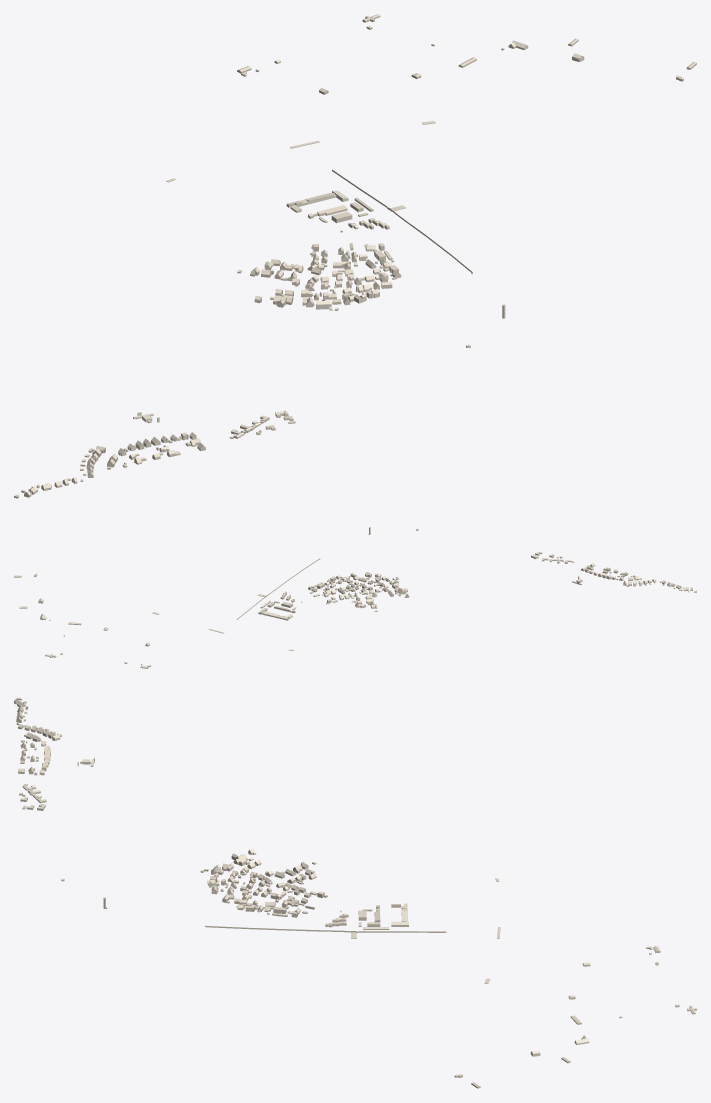
3 views of the same model, one above another, from view 1: azimuth 30°, elevation 25°; view 2: azimuth 150°, elevation 25°; view 3: azimuth 270°, elevation 25° (orthographic). The views are drawn at different scales.
Bounding box in the file's own units: 1925 × 54.29 × 1434.
